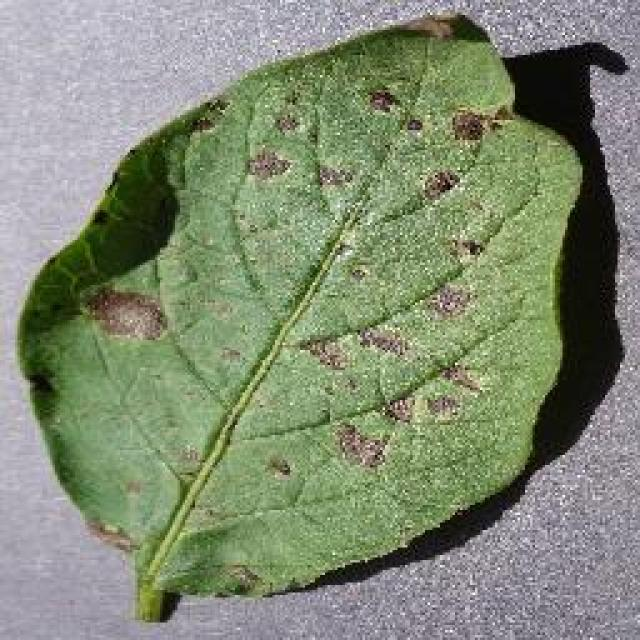early_blight: (10, 10, 588, 622)
